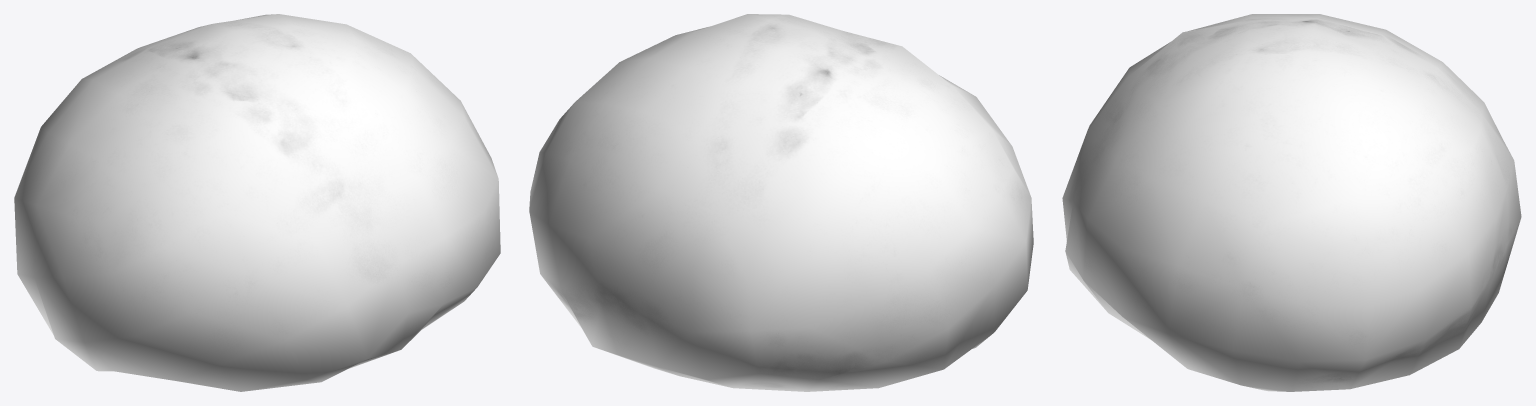
Rendered from SmallBread.fbx.
3 views of the same model, side by side, from view 1: azimuth 30°, elevation 25°; view 2: azimuth 150°, elevation 25°; view 3: azimuth 270°, elevation 25° (orthographic).
Visible parts, largest first — view 1: Mesh; view 2: Mesh; view 3: Mesh.
Boxes of the visible parts, x1,y1,x2,y2 form: Mesh: [14, 14, 500, 391]; Mesh: [529, 14, 1033, 391]; Mesh: [1062, 14, 1521, 391].
Bounding box in the file's own units: 7.33 × 4.63 × 6.73.
